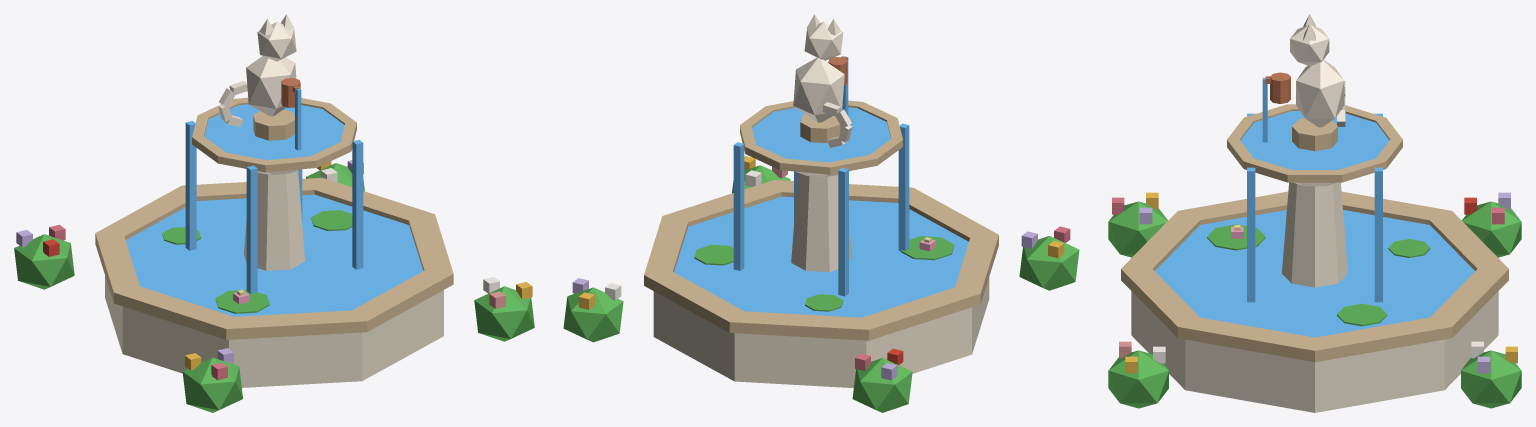
File: CatCafe_Lawn_LittleFountain.glb
3 views of the same model, side by side, from view 1: azimuth 30°, elevation 25°; view 2: azimuth 150°, elevation 25°; view 3: azimuth 270°, elevation 25° (orthographic). The views are drawn at different scales.
Parts seen in each view (by area): view 1: CatCafe_Lawn_LittleFountain, CatCafe_Lawn_LittleFountain_Water; view 2: CatCafe_Lawn_LittleFountain, CatCafe_Lawn_LittleFountain_Water; view 3: CatCafe_Lawn_LittleFountain, CatCafe_Lawn_LittleFountain_Water.
Boxes of the visible parts, bbox=[...] form: CatCafe_Lawn_LittleFountain: bbox=[14, 14, 534, 412]; CatCafe_Lawn_LittleFountain_Water: bbox=[125, 88, 423, 316]; CatCafe_Lawn_LittleFountain: bbox=[563, 14, 1079, 412]; CatCafe_Lawn_LittleFountain_Water: bbox=[674, 56, 968, 317]; CatCafe_Lawn_LittleFountain: bbox=[1108, 14, 1521, 412]; CatCafe_Lawn_LittleFountain_Water: bbox=[1155, 77, 1474, 337].
Bounding box in the file's own units: 3.1 × 2.6 × 3.07.
Materials: 1 (1 with a texture image).
